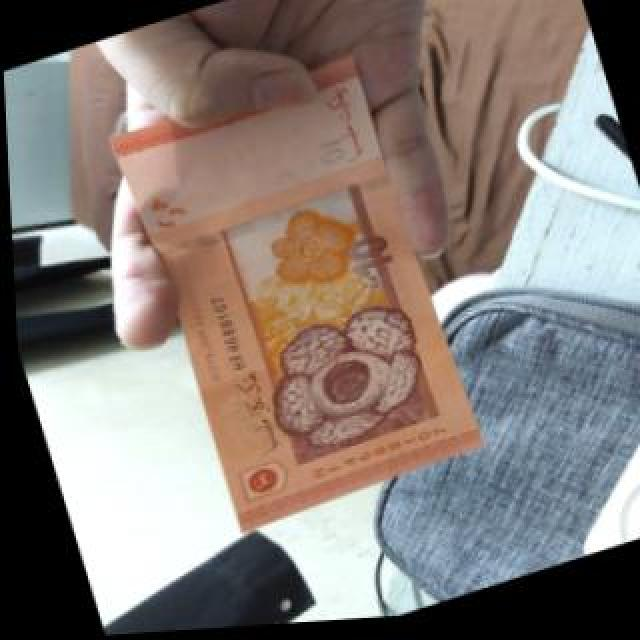10 Ringgit: (104, 44, 473, 534)
